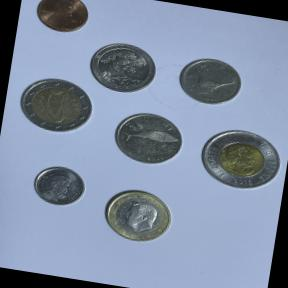coin: (190, 118, 288, 198), (10, 70, 99, 139), (96, 180, 178, 250), (107, 104, 189, 171), (83, 36, 162, 98), (25, 158, 91, 216), (30, 0, 94, 38)
